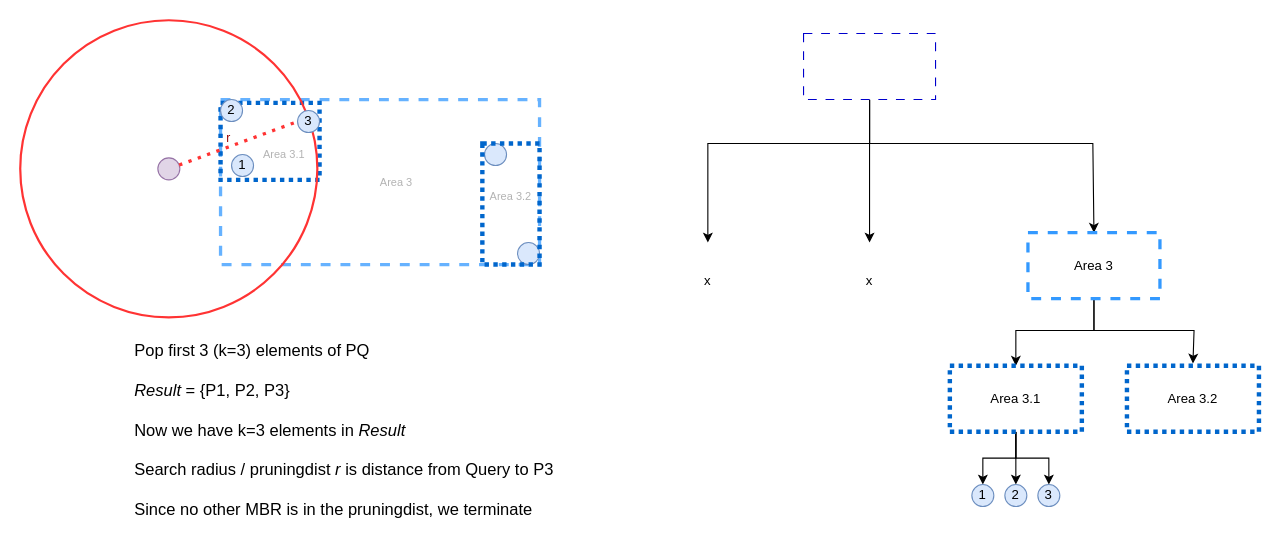
Some shapes in this 1280 by 548 pixel diagram are drawn without their labels. Here are the shapes that lost their labels. From the top down, the centre of each, then its label:
At (869,66): "Root".
At (168,168): "Query".
